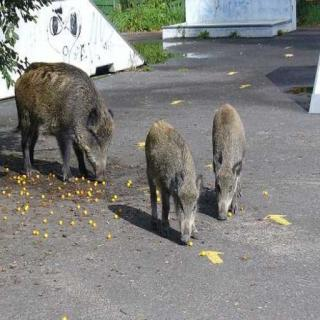Pig: (104, 97, 245, 293), (191, 90, 315, 270), (0, 28, 121, 190)
